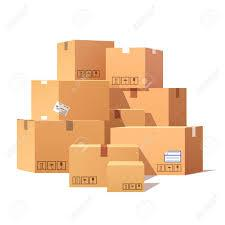Cardboard: (13, 16, 217, 206)
